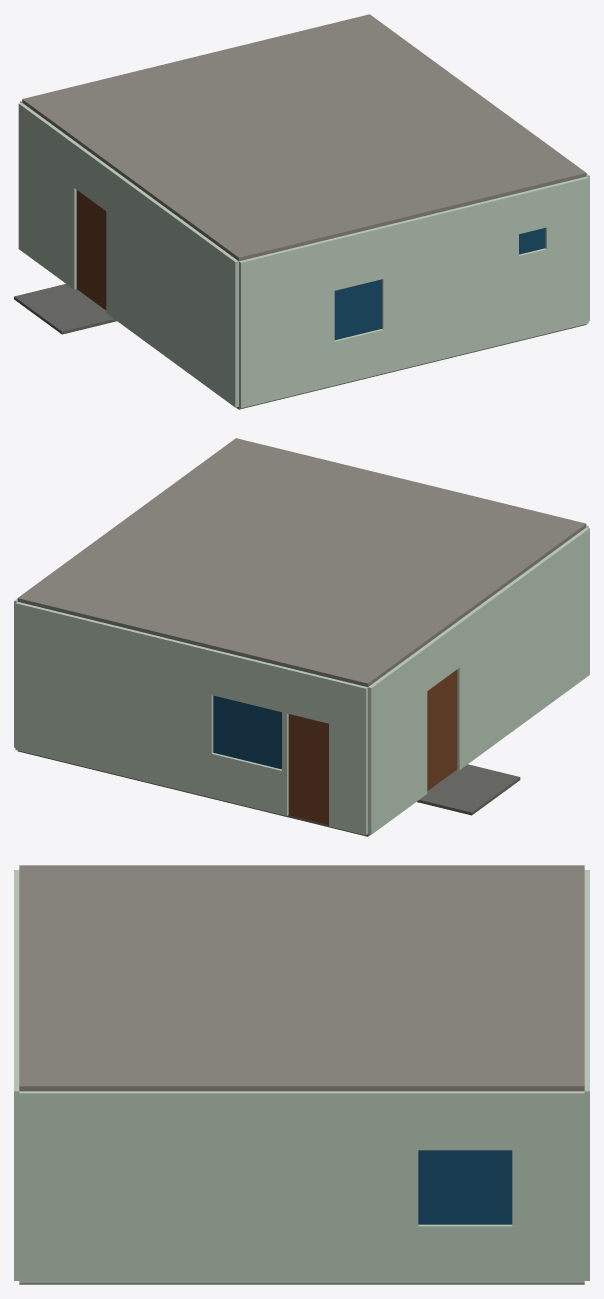
The model's file is 1BHK_08.obj.
3 views of the same model, one above another, from view 1: azimuth 30°, elevation 25°; view 2: azimuth 150°, elevation 25°; view 3: azimuth 270°, elevation 25° (orthographic). The views are drawn at different scales.
Size of the model in its own units: 8.92 by 3.18 by 8.38.
